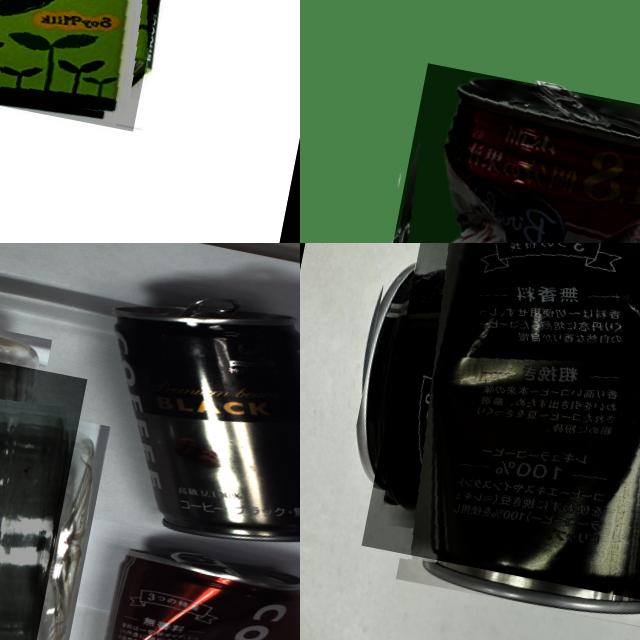Aluminium Foil: (0, 0, 193, 131)
Can: (362, 243, 640, 617), (70, 284, 300, 564), (366, 62, 640, 243), (85, 539, 300, 640)
Transparent Plastic Bottle: (0, 316, 87, 640)
